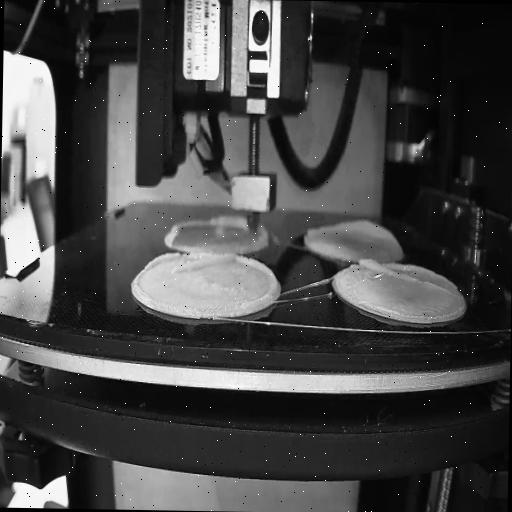over_extrusion: (357, 256, 450, 294), (306, 216, 402, 246), (235, 255, 279, 309), (145, 252, 231, 276), (206, 215, 246, 229)
